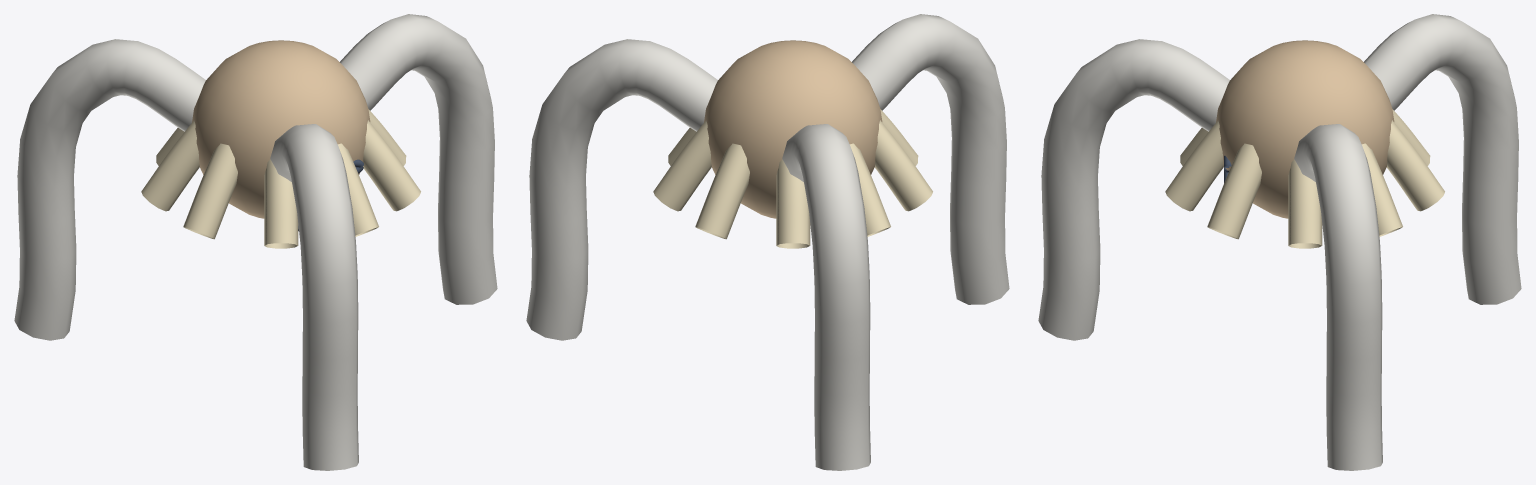
The model's file is bio_tripod_bell_04_near.glb.
The picture shows the model from 3 angles, left to right: view 1: azimuth 30°, elevation 25°; view 2: azimuth 150°, elevation 25°; view 3: azimuth 270°, elevation 25°; orthographic projection.
Visible parts, largest first — view 1: Arched tripod.001, Arched tripod, Arched tripod.002, Hanging bell core, Flared rib.005, Flared rib.004, Flared rib.008, Flared rib.006, Flared rib.007, Flared rib; view 2: Arched tripod, Arched tripod.002, Arched tripod.001, Hanging bell core, Flared rib.002, Flared rib.001, Flared rib.005, Flared rib.003, Flared rib.004, Flared rib.006; view 3: Arched tripod.002, Arched tripod.001, Arched tripod, Hanging bell core, Flared rib.008, Flared rib.007, Flared rib.002, Flared rib, Flared rib.001, Flared rib.003.
Part boxes in pixels (box(x1,y1,x2,y2)): Arched tripod.001: box(14, 39, 205, 340); Arched tripod: box(340, 14, 497, 304); Arched tripod.002: box(270, 124, 358, 470); Hanging bell core: box(192, 40, 370, 218); Flared rib.005: box(183, 143, 237, 239); Flared rib.004: box(141, 120, 199, 211); Flared rib.008: box(363, 120, 420, 211); Flared rib.006: box(264, 159, 298, 248); Flared rib.007: box(338, 143, 378, 236); Flared rib: box(368, 109, 406, 165); Arched tripod: box(526, 39, 717, 340); Arched tripod.002: box(852, 14, 1009, 304); Arched tripod.001: box(782, 124, 870, 470); Hanging bell core: box(704, 40, 882, 218); Flared rib.002: box(695, 143, 749, 239); Flared rib.001: box(653, 120, 711, 211); Flared rib.005: box(874, 120, 932, 211); Flared rib.003: box(776, 159, 810, 248); Flared rib.004: box(850, 143, 890, 236); Flared rib.006: box(880, 109, 918, 165); Arched tripod.002: box(1038, 39, 1229, 340); Arched tripod.001: box(1364, 14, 1521, 304); Arched tripod: box(1294, 124, 1382, 470); Hanging bell core: box(1216, 40, 1394, 218); Flared rib.008: box(1207, 143, 1261, 239); Flared rib.007: box(1165, 120, 1223, 211); Flared rib.002: box(1386, 120, 1444, 211); Flared rib: box(1288, 159, 1322, 248); Flared rib.001: box(1362, 143, 1402, 236); Flared rib.003: box(1392, 109, 1430, 165).
Size of the model in its own units: 2.49 by 1.86 by 2.57.
